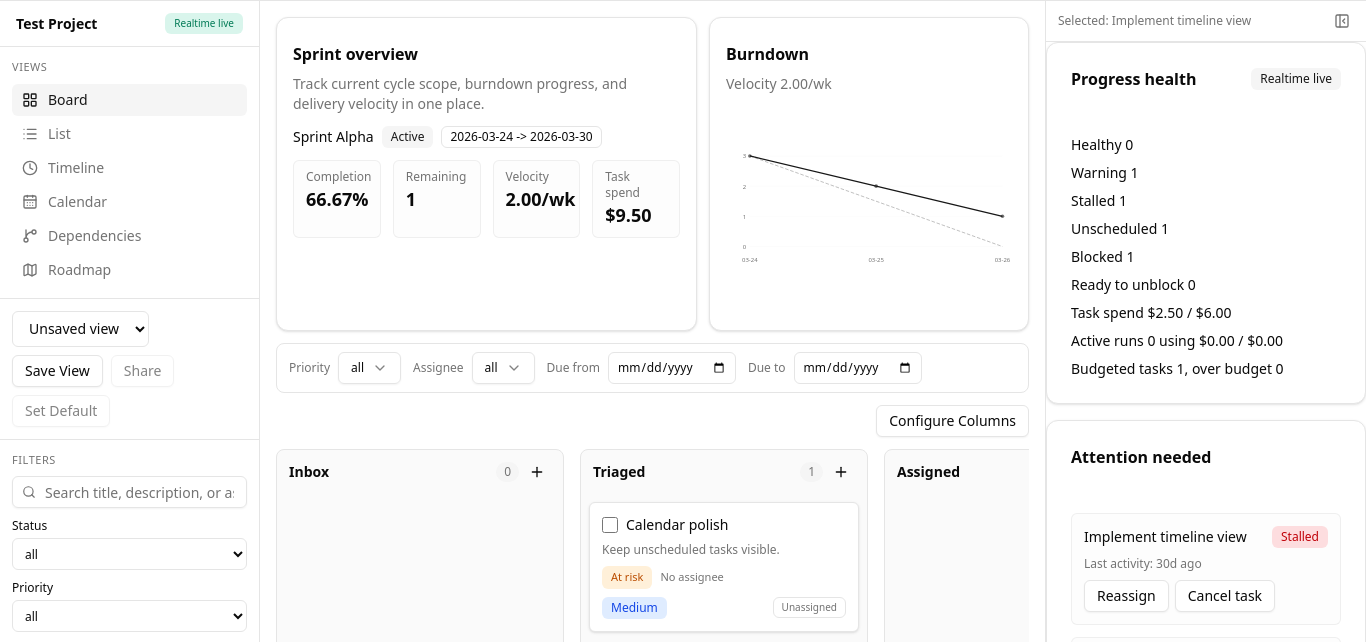
ProjectTaskWorkspace › keeps the selected task in the context rail when current filters hide it
Type "calendar" into the field named "Search tasks".
click(130, 492); type("calendar")  # box [12,476,247,508]
(page scrolled)
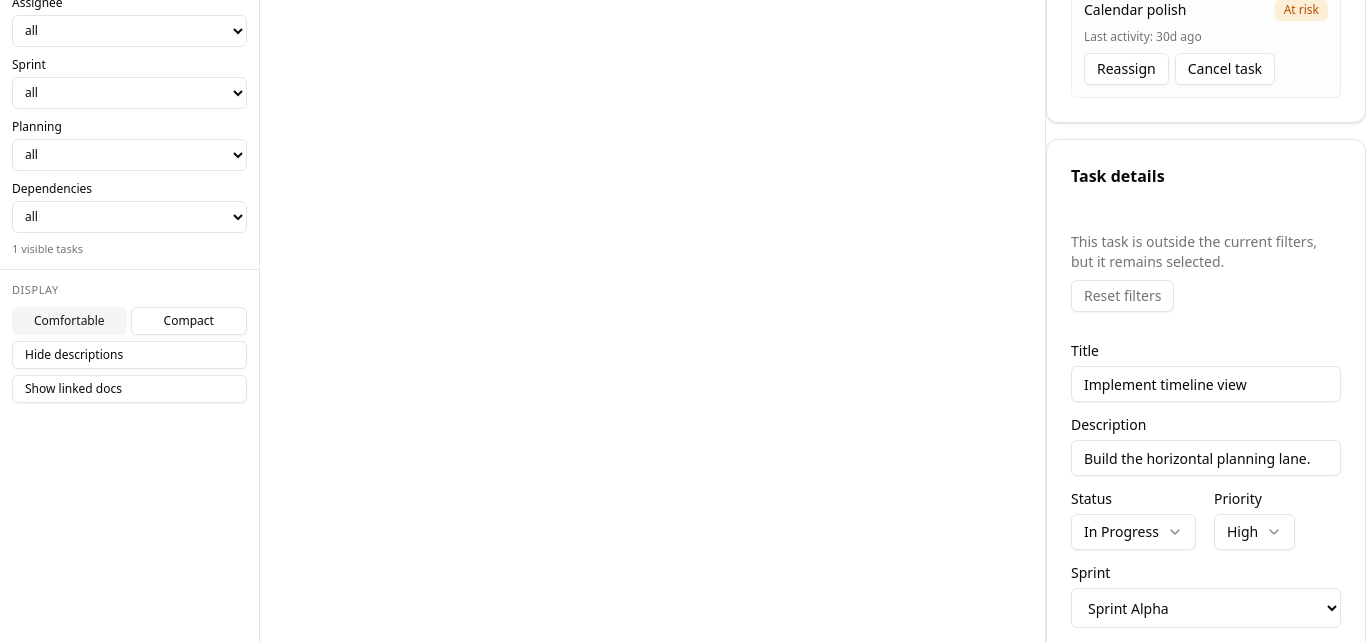
Expected: the field showing "Implement timeline view" is shown, [1071,366,1341,402]
Expected: the text "outside the current filters" is shown, [1071,232,1317,271]
